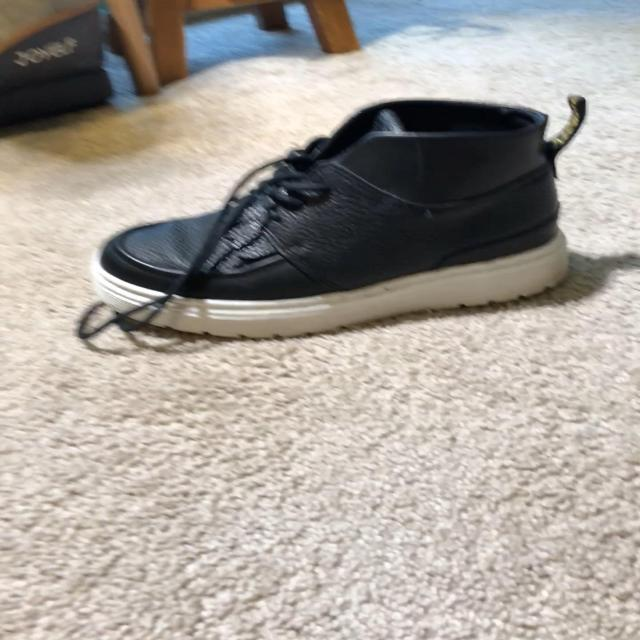shoe: (96, 89, 574, 334)
